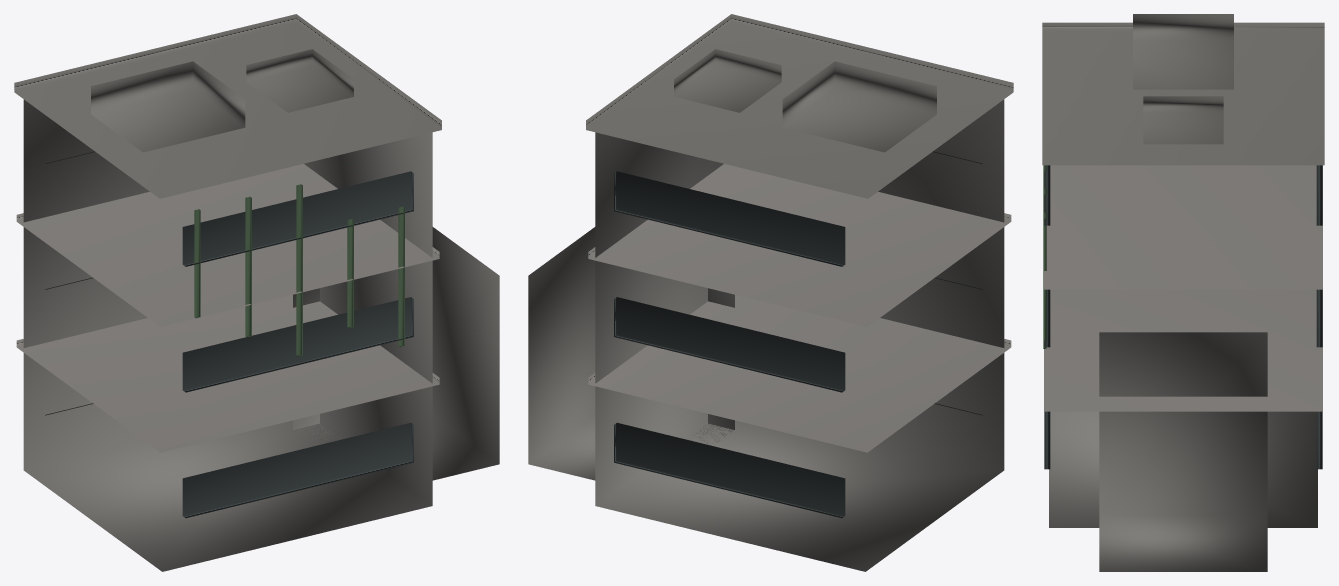
Rendered from city_block.glb.
3 views of the same model, side by side, from view 1: azimuth 30°, elevation 25°; view 2: azimuth 150°, elevation 25°; view 3: azimuth 270°, elevation 25° (orthographic). The views are drawn at different scales.
Visible parts, largest first — view 1: city_block; view 2: city_block; view 3: city_block.
Part boxes in pixels (x1=…): city_block: x1=14, y1=14, x2=499, y2=571; city_block: x1=528, y1=14, x2=1013, y2=571; city_block: x1=1042, y1=14, x2=1324, y2=571.
Bounding box in the file's own units: 12.3 × 13.05 × 8.4.
